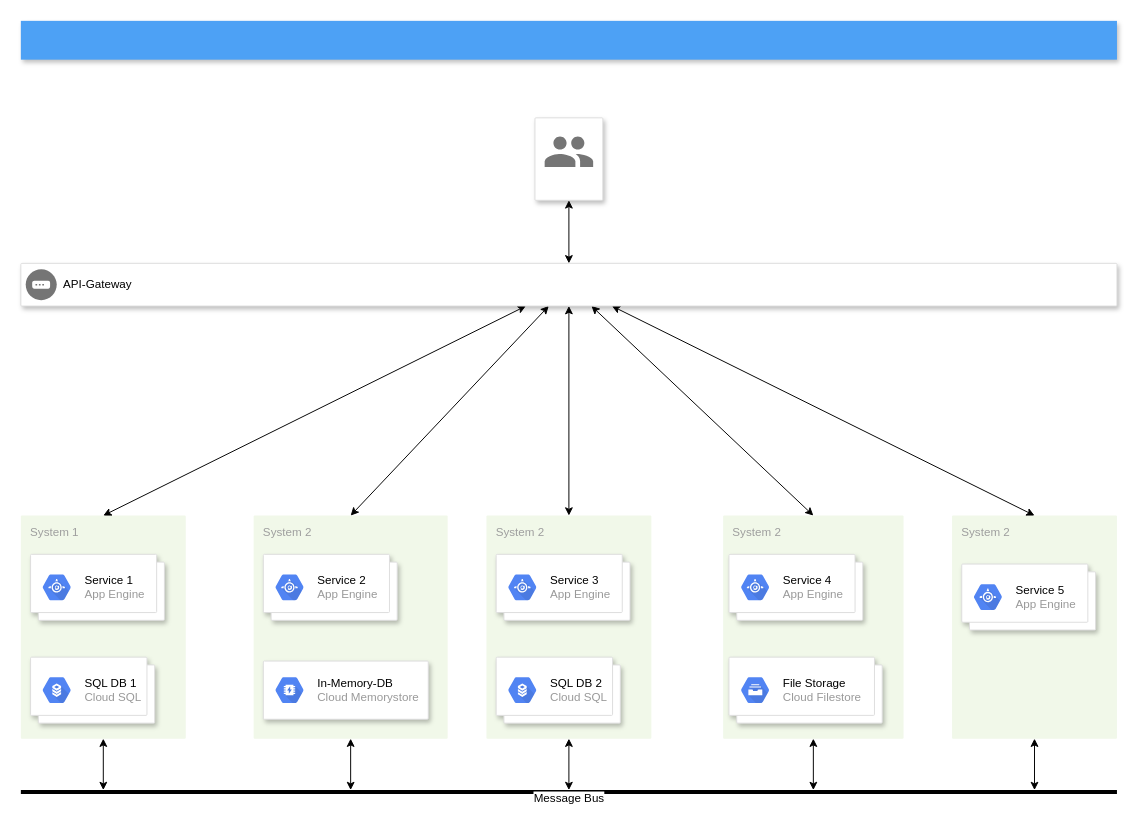
The diagram is 1140 pixels wide and 825 high, and some of its shapes have lost their labels. The centre of each missing label's shape, as x and y in pixels:
Microservices-Architektur: (569,41)
Users: (569,160)
